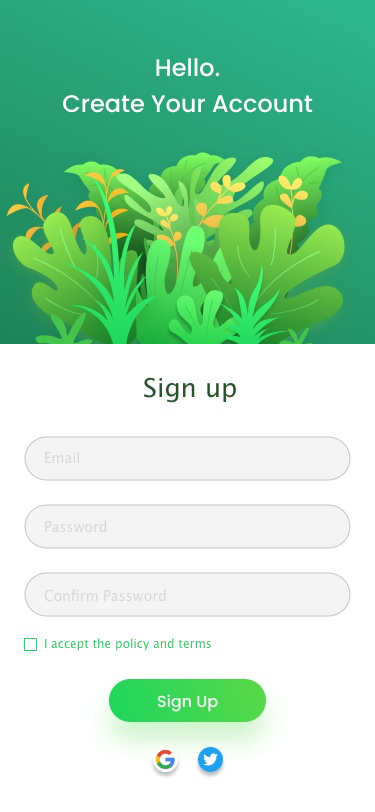CheckedTextView: (25, 638, 212, 652)
EditText: (25, 504, 352, 550), (25, 436, 351, 482), (25, 572, 349, 618)
Icon: (198, 746, 224, 773), (153, 747, 179, 773)
Image: (1, 1, 375, 345)
Text: (63, 95, 313, 114), (144, 378, 237, 404), (46, 638, 212, 651), (45, 589, 167, 602), (156, 58, 220, 78), (45, 520, 107, 533), (46, 451, 80, 464)
TextButton: (109, 678, 267, 723)
